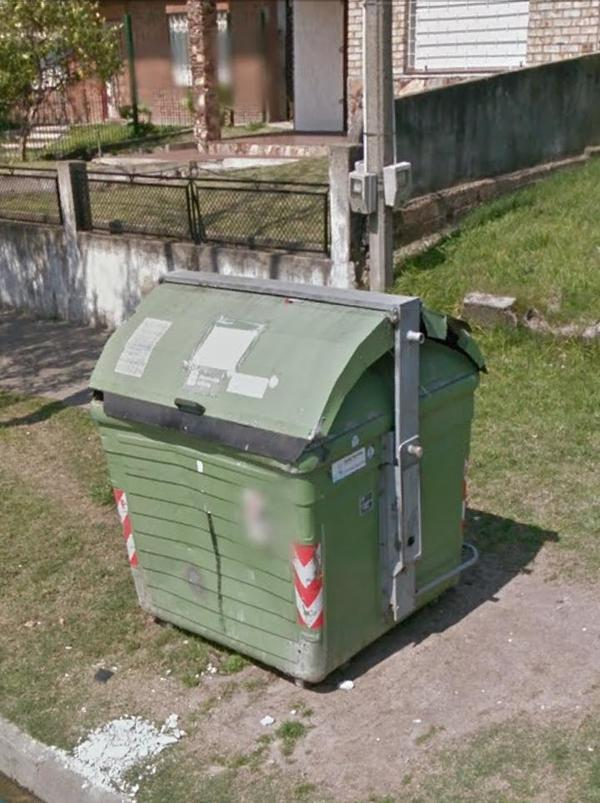Trash: (92, 272, 486, 683)
